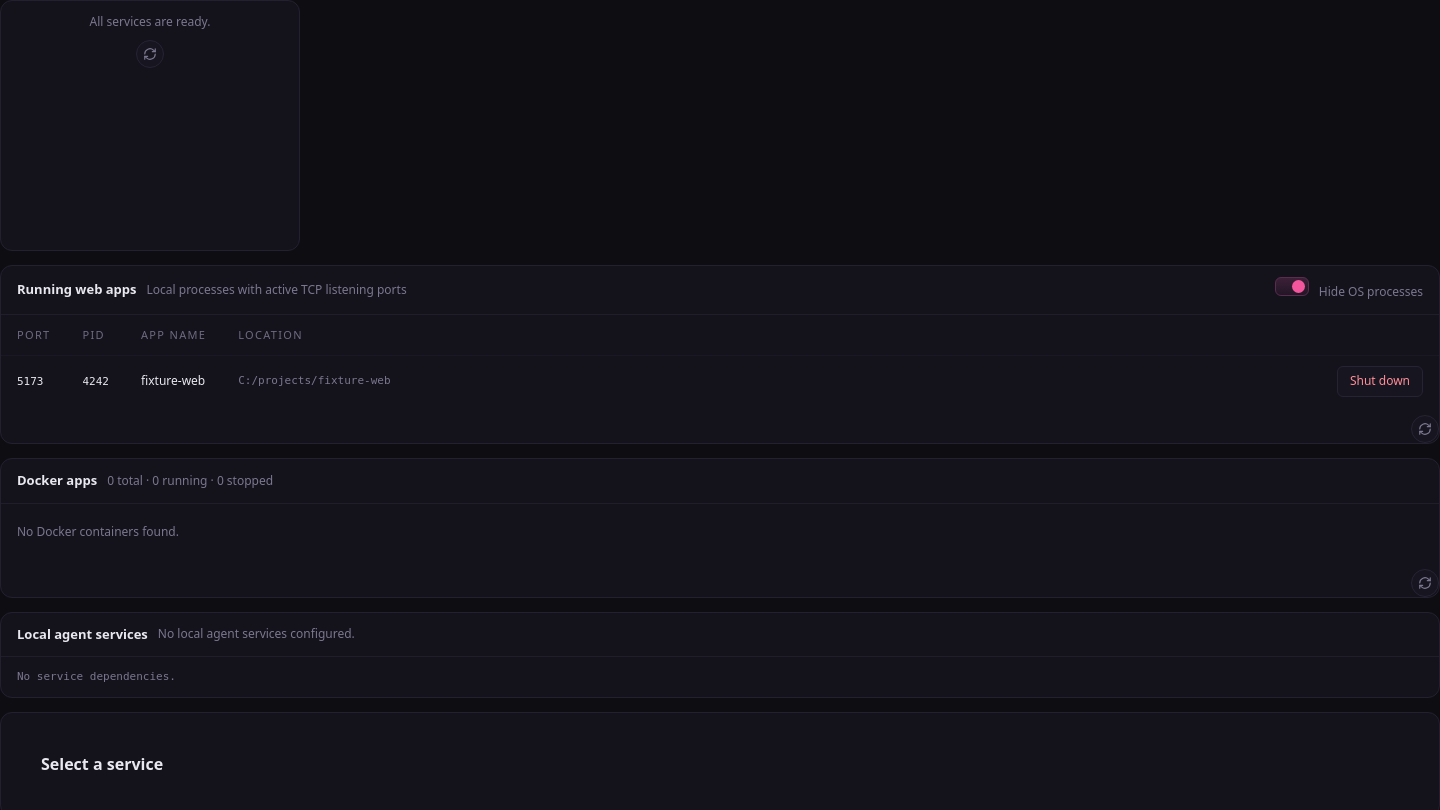
Scenario: MCP and service workflows › shows listening web apps and prepares a confirmed shutdown
Expected: the text "fixture-web" is shown, [125,356,222,407]
Expected: the text "C:/projects/fixture-web" is shown, [222,356,1321,407]
What coordinates should you click on to do the following:
click the button with aria-label "Shut down fixture-web on port 5173"
I would click on:
 (1380, 382)
Its box is [1337,366,1423,397].
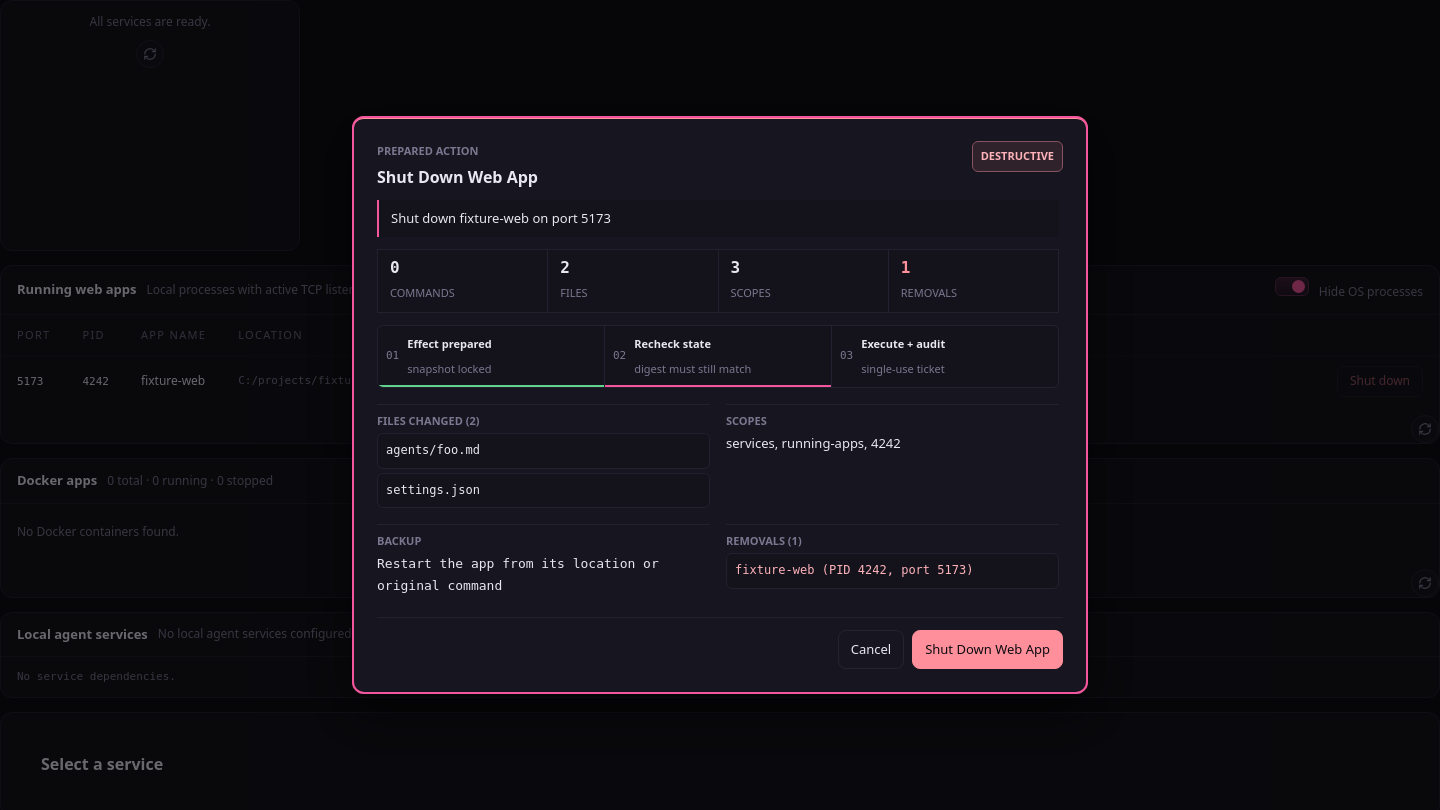
Expected: the dialog "Shut Down Web App" is shown, [352,116,1088,694]
Expected: the text "Shut down fixture-web on port 5173" is shown, [377,200,1059,237]
